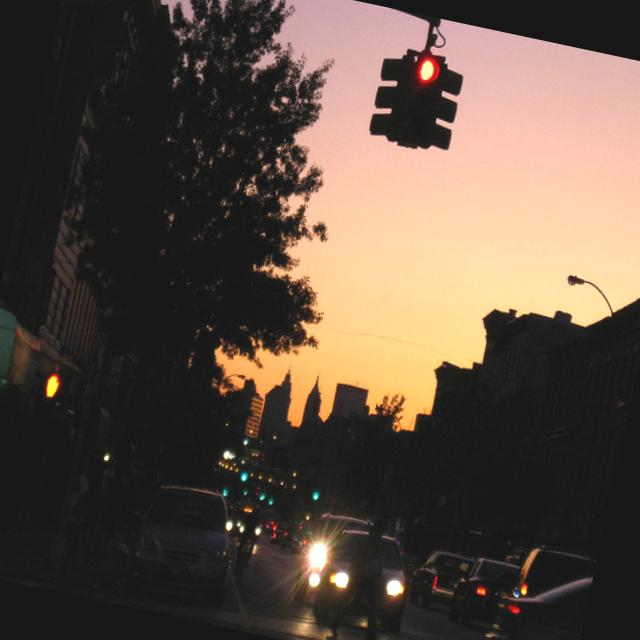Vehicle: (132, 478, 246, 604), (309, 521, 416, 636), (480, 556, 593, 640), (289, 506, 374, 614), (448, 553, 526, 624), (516, 543, 592, 607), (403, 545, 472, 614), (233, 521, 261, 571), (238, 515, 262, 540)
